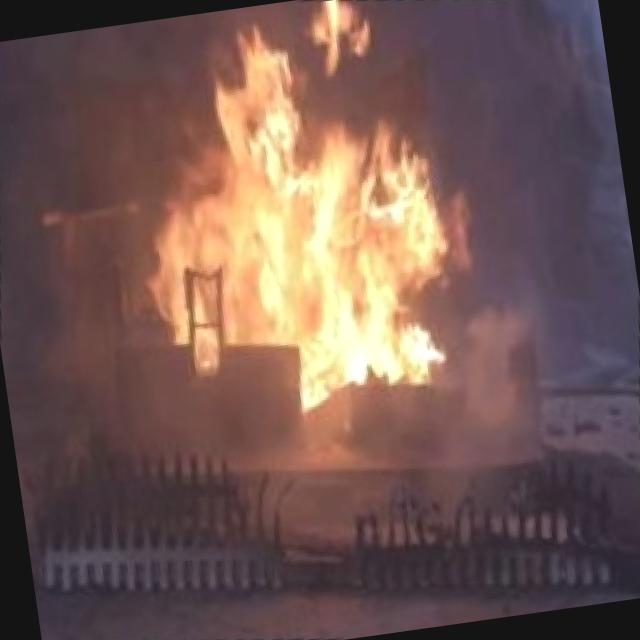fire: (73, 0, 544, 455)
